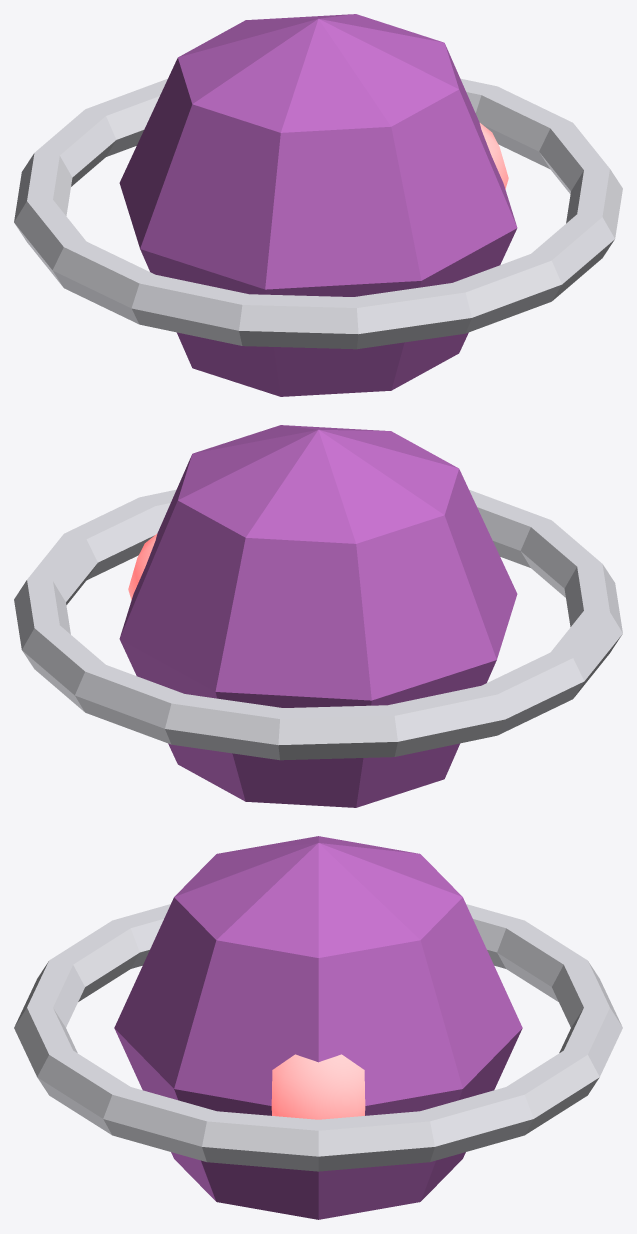
File: enemy_drone.glb
3 views of the same model, one above another, from view 1: azimuth 30°, elevation 25°; view 2: azimuth 150°, elevation 25°; view 3: azimuth 270°, elevation 25° (orthographic).
Visible parts, largest first — view 1: enemy_drone; view 2: enemy_drone; view 3: enemy_drone.
Boxes of the visible parts, x1,y1,x2,y2 form: enemy_drone: [14, 14, 622, 396]; enemy_drone: [14, 425, 622, 807]; enemy_drone: [14, 836, 622, 1219].
Size of the model in its own units: 1.64 by 1.1 by 1.64.
